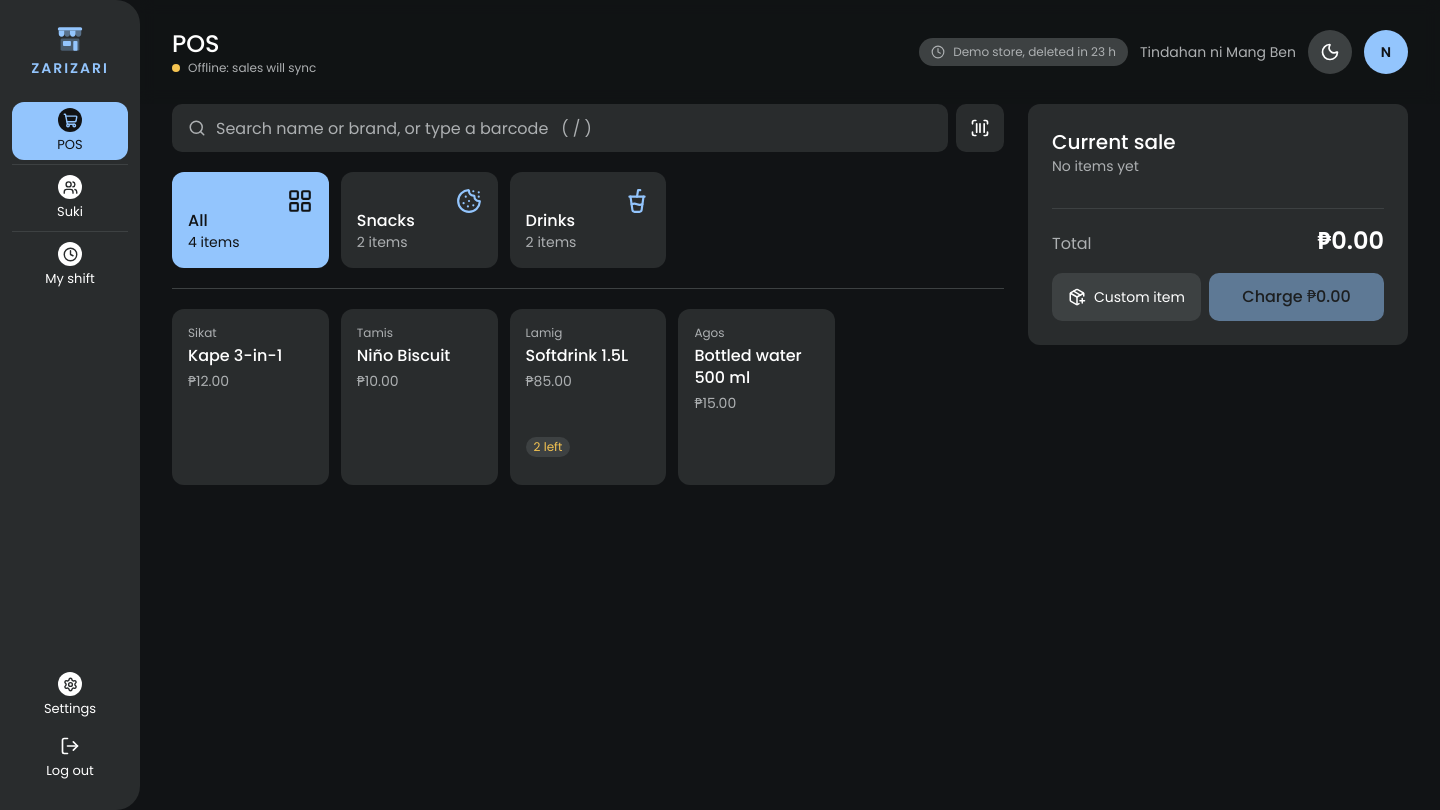
Test case: selling offline (spec 9) › queues a sale while offline with a Pending sync receipt, then syncs: Offline → Syncing 3 sales… → Online
Expected: the text "Offline: sales will sync" is shown, [172,59,316,76]
Click the button named "Add Kape 3-in-1": click(250, 369) [184,321,317,417]
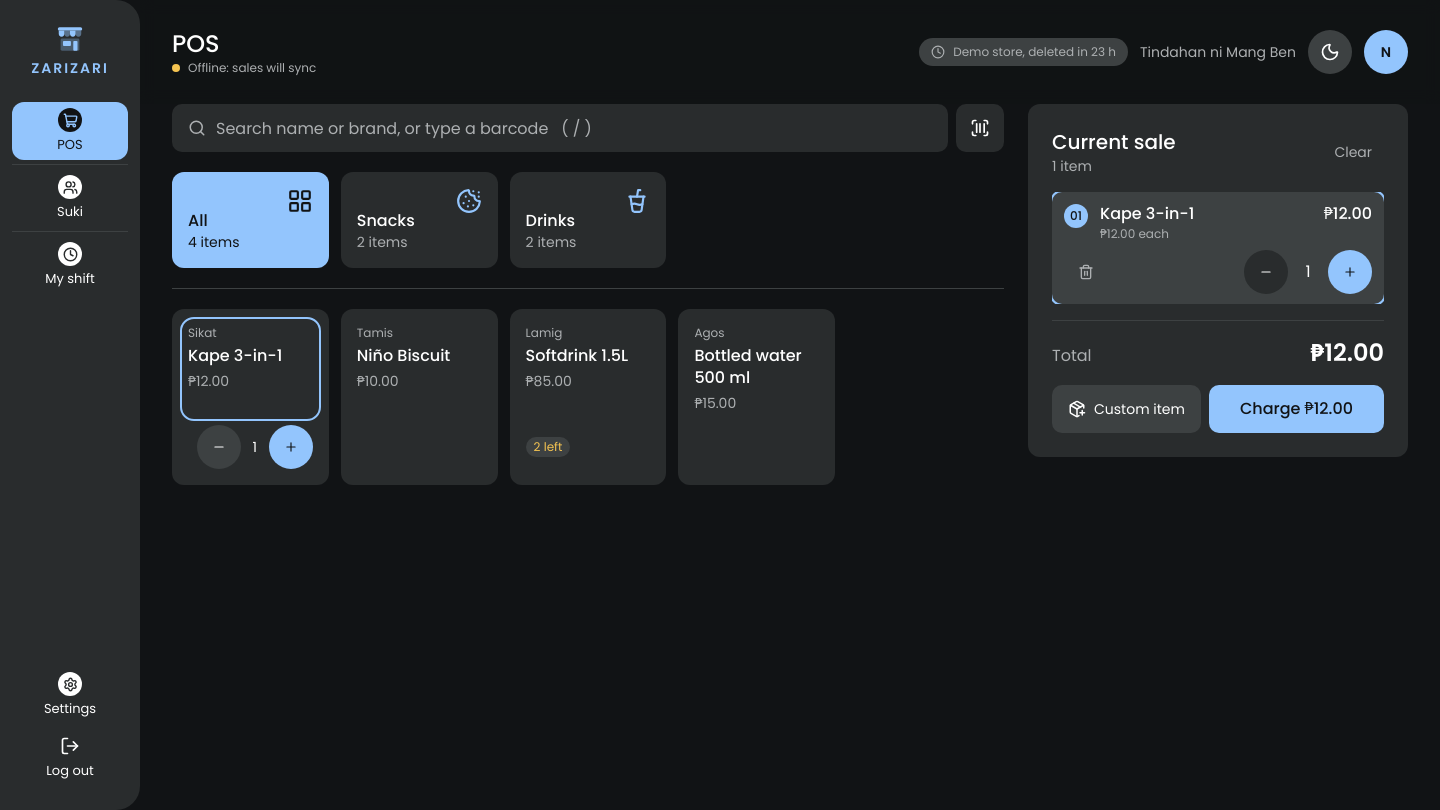
Click the button "Charge ₱12.00": click(1296, 409) [1209,385,1384,433]
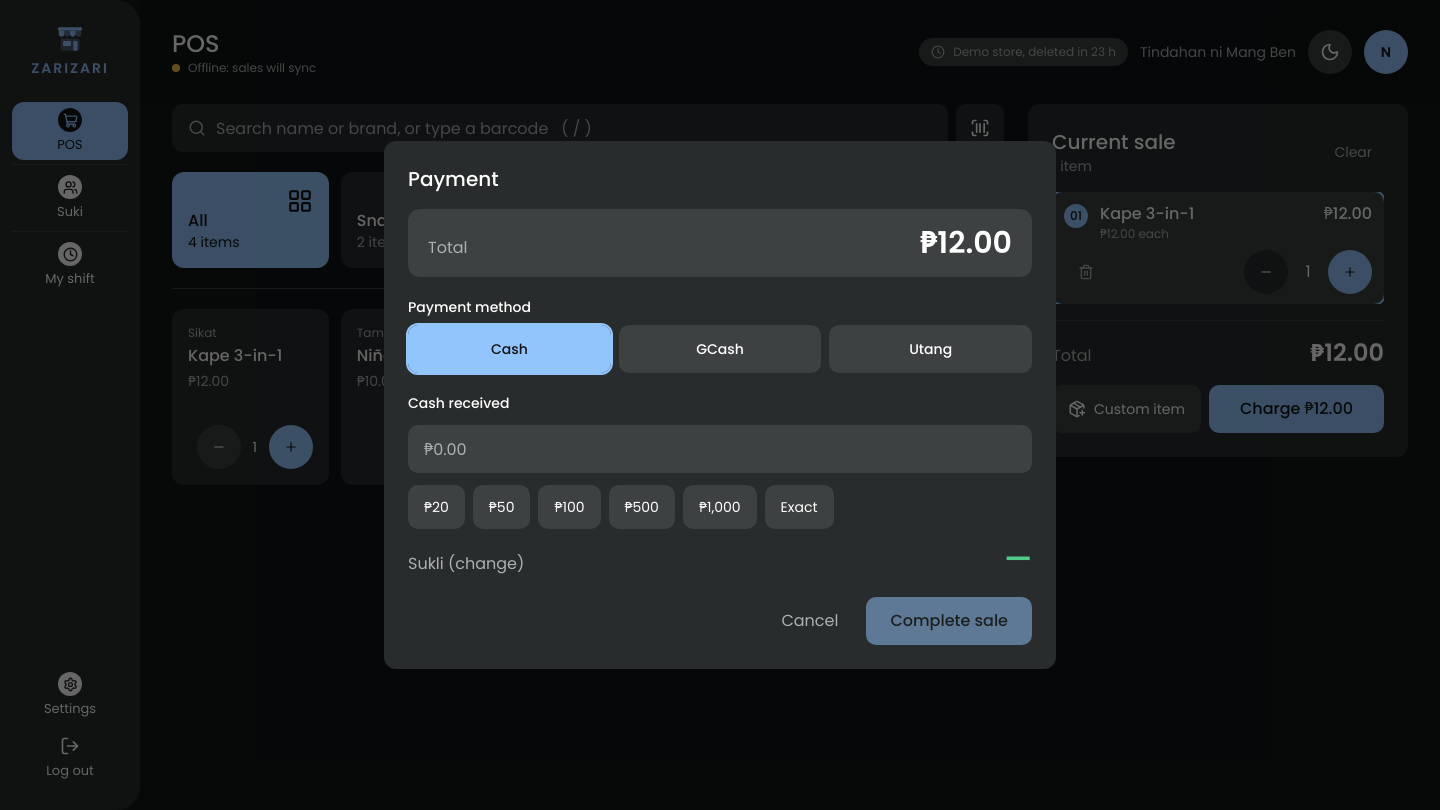
Click the button "Exact": click(799, 507) [765,485,834,529]
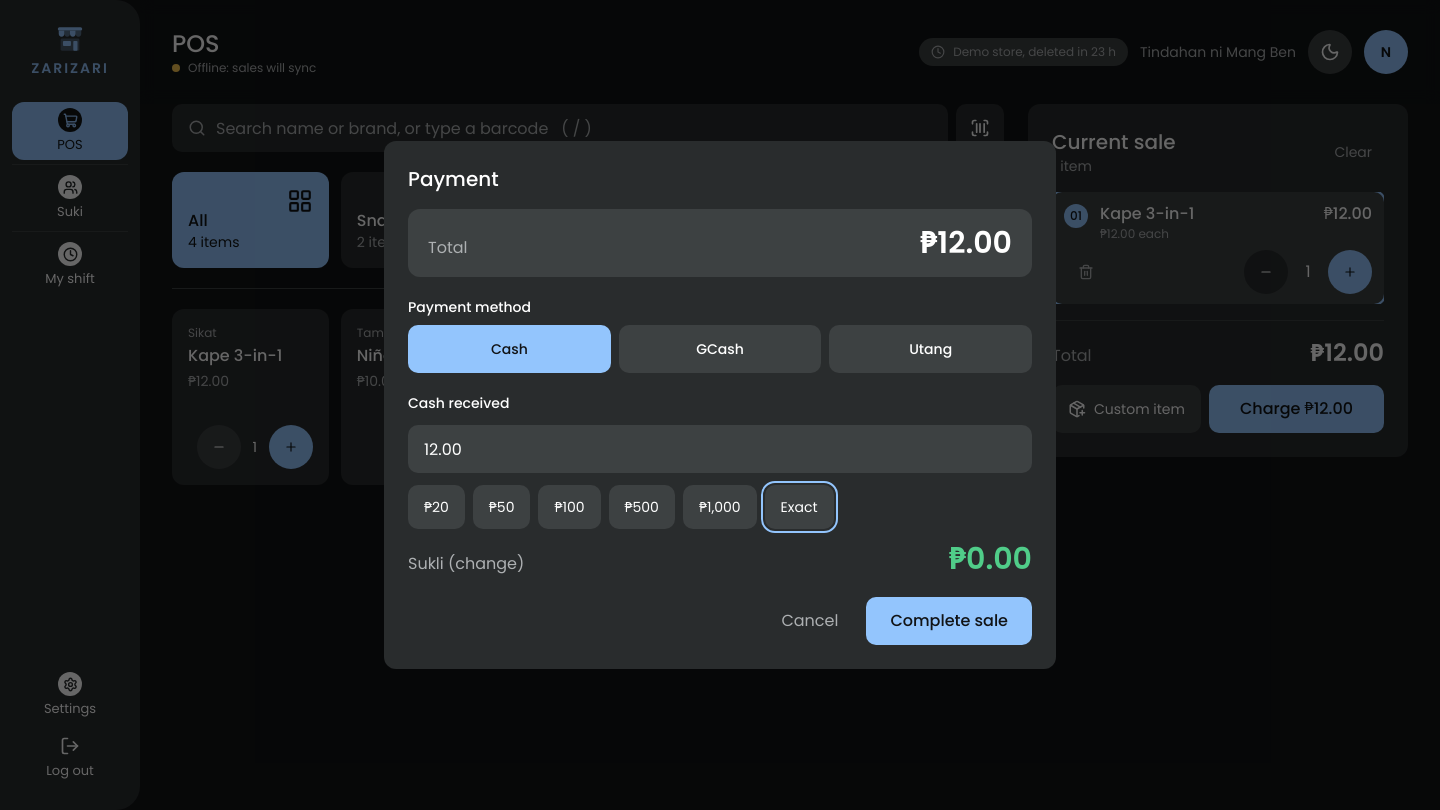
Click the button "Complete sale": click(949, 621) [866,597,1032,645]
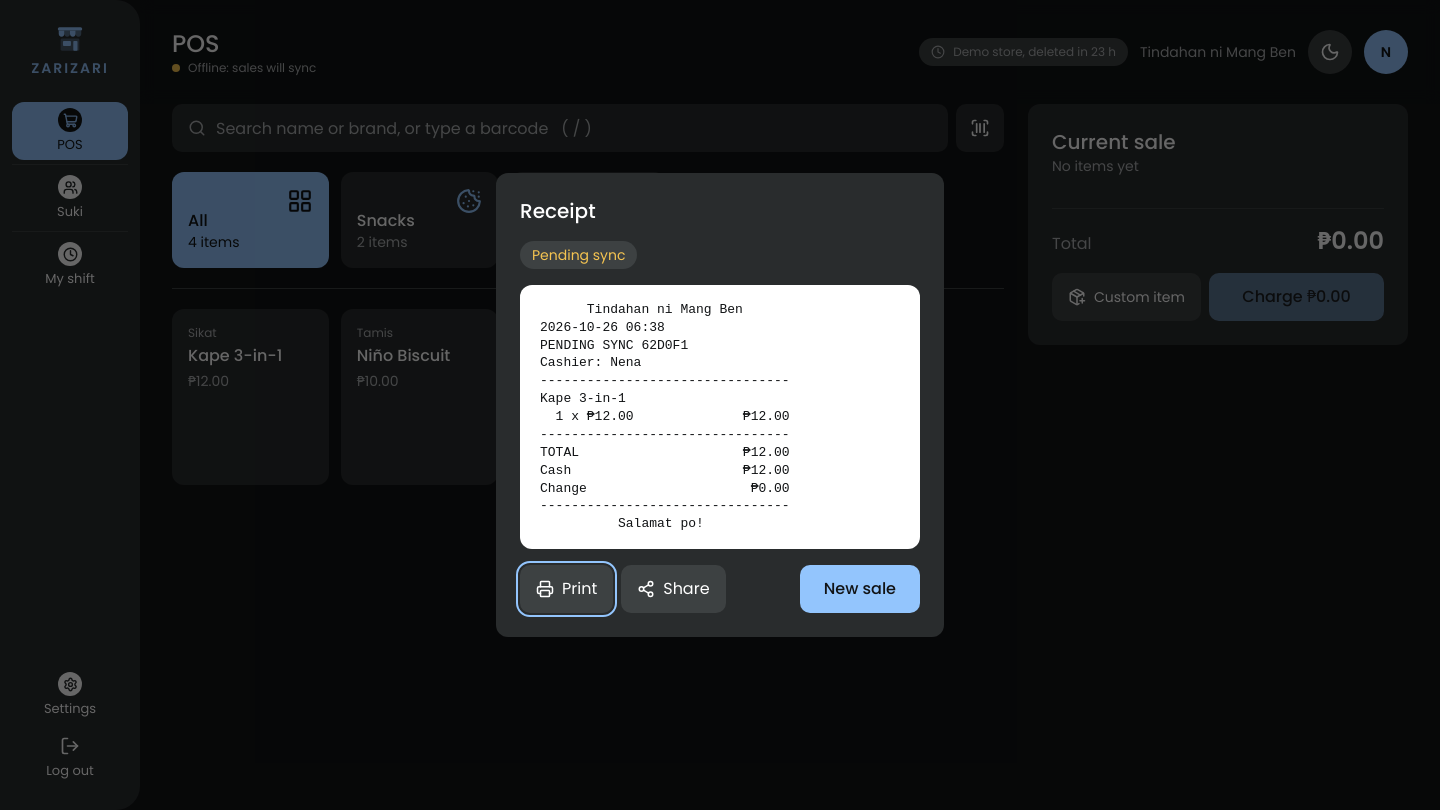
Expected: the dialog "Receipt" shows "Pending sync", [532,245,626,265]
Click the button "New sale": click(860, 589) [800,565,920,613]
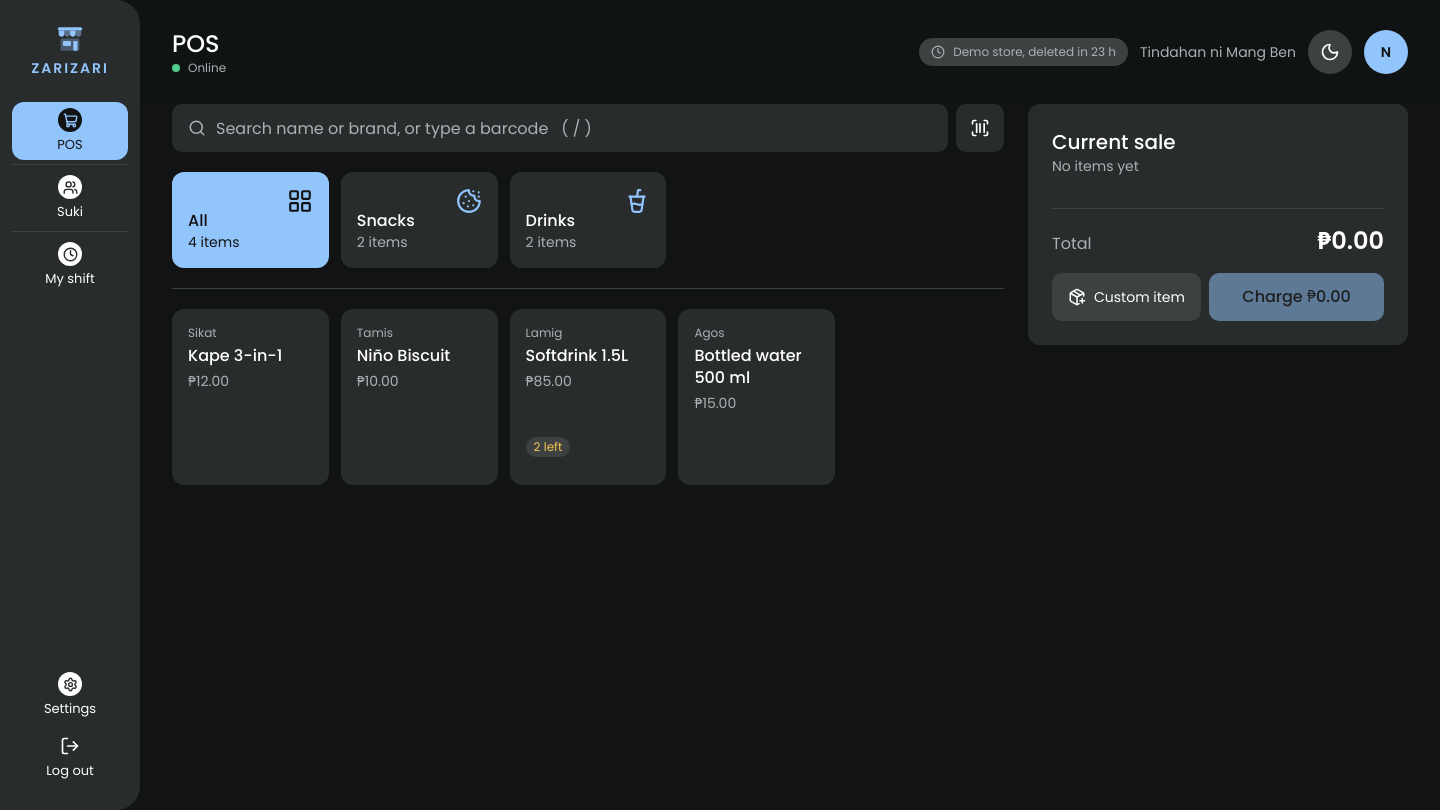
Expected: the text "Online" is shown, [172,59,226,76]
